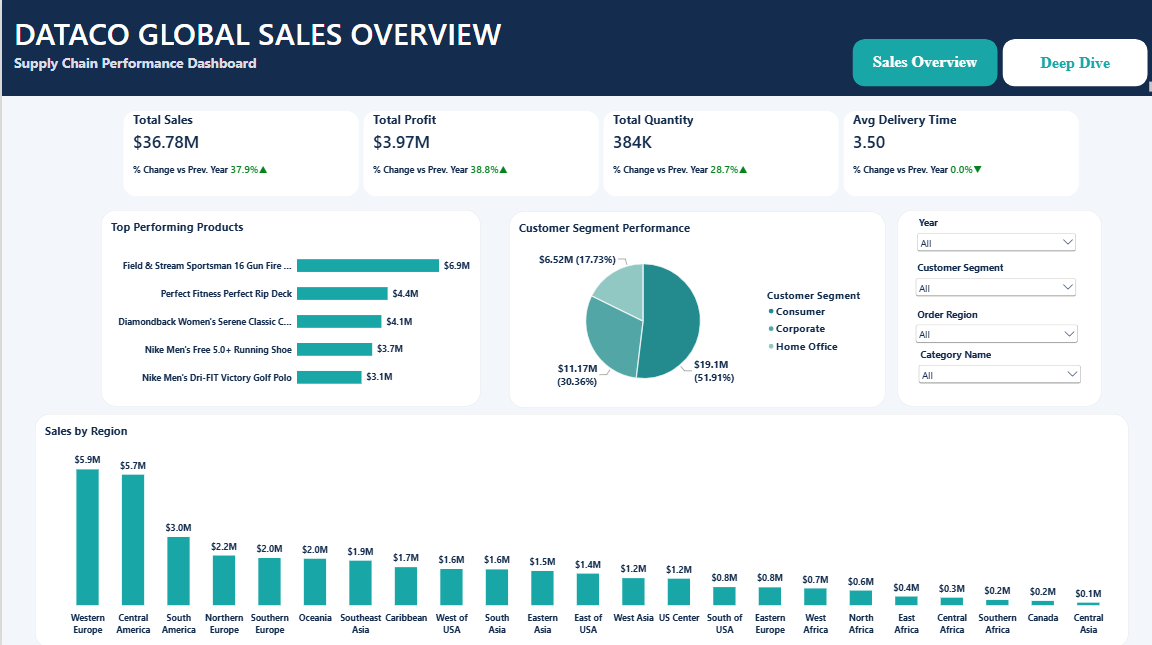

Layout of this report page (visuals, bound fields, positions):
{"tool":"powerbi","page":{"name":"Sales Overview","canvas":[1920,1080],"ordinal":0},"visuals":[{"type":"textbox","box":[1492.5,350,340,327.5],"z":0},{"type":"columnChart","title":"Sales by Region","fields":{"Category":["DimLocation.Order Region"],"Y":["Measure.Total Sales"]},"box":[55,690,1822.5,390],"z":1000},{"type":"cardVisual","fields":{"Data":["Table.Total Sales","Table.Total Profit","Table.Total Quantity","Table.Avg Delivery Time"]},"box":[202.5,185,1592.5,142.5],"z":2000},{"type":"barChart","title":"Top Performing Products","fields":{"Category":["DimProduct.Product Name"],"Y":["Measure.Total Sales"]},"box":[165,350,632.5,327.5],"z":3000},{"type":"pieChart","title":"Customer Segment Performance","fields":{"Category":["DimCustomer.Customer Segment"],"Y":["Measure.Total Sales"]},"box":[845,352.5,627.5,327.5],"z":4000},{"type":"textbox","title":"DATACO GLOBAL SALES OVERVIEW","box":[0,0,1920,160],"z":5000},{"type":"slicer","fields":{"Values":["DimLocation.Order Region"]},"box":[1517.5,512.5,280,67.5],"z":5000,"group":"g1"},{"type":"textbox","box":[0,360,240,328],"z":6000},{"type":"slicer","fields":{"Values":["DimProduct.Category Name"]},"box":[1522.5,580,280,65],"z":6000,"group":"g1"},{"type":"group","id":"g1","title":"Group 1","box":[1517.5,360,285,285],"z":7000},{"type":"slicer","fields":{"Values":["DimCustomer.Customer Segment"]},"box":[1517.5,435,277.5,67.5],"z":7000,"group":"g1"},{"type":"pageNavigator","box":[1417.3,64.7,492.3,79.7],"z":8000},{"type":"slicer","fields":{"Values":["DimDate.Date.Variation.Date Hierarchy.Year"]},"box":[1519.2,360,275,65],"z":8000,"group":"g1"}]}

Visuals, with their boxes in screenshot pixels (x1, y1, x2, y2), scaled from the page's 1920x1080 canvas onto the 1152x645 screenshot:
textbox: <bbox>896, 209, 1100, 405</bbox>
"Sales by Region" columnChart: <bbox>33, 412, 1126, 644</bbox>
cardVisual - Table.Total Sales x Table.Total Profit: <bbox>122, 110, 1077, 196</bbox>
"Top Performing Products" barChart: <bbox>99, 209, 478, 405</bbox>
"Customer Segment Performance" pieChart: <bbox>507, 211, 884, 406</bbox>
"DATACO GLOBAL SALES OVERVIEW" textbox: <bbox>0, 0, 1151, 96</bbox>
slicer - DimLocation.Order Region: <bbox>910, 306, 1078, 346</bbox>
textbox: <bbox>0, 215, 144, 411</bbox>
slicer - DimProduct.Category Name: <bbox>914, 346, 1082, 385</bbox>
"Group 1" group: <bbox>910, 215, 1082, 385</bbox>
slicer - DimCustomer.Customer Segment: <bbox>910, 260, 1077, 300</bbox>
pageNavigator: <bbox>850, 39, 1146, 86</bbox>
slicer - DimDate.Date.Variation.Date Hierarchy.Year: <bbox>912, 215, 1077, 254</bbox>
